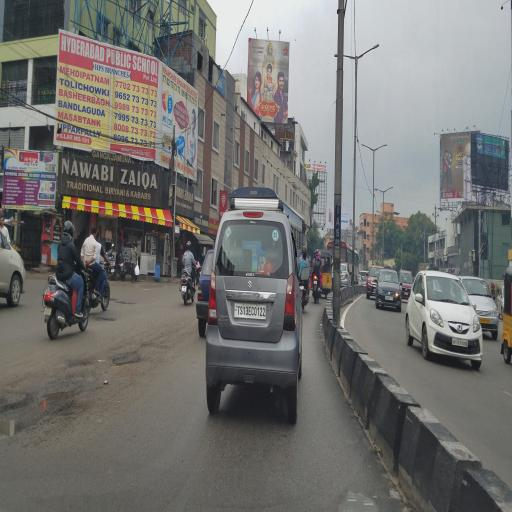street_light_0: (354, 36, 382, 66), (328, 40, 358, 68), (374, 129, 391, 164), (355, 128, 372, 163), (384, 176, 398, 197), (370, 178, 382, 198)
